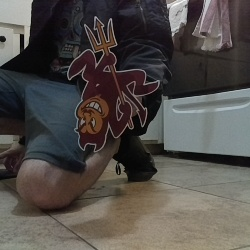sparky: (66, 15, 161, 153)
